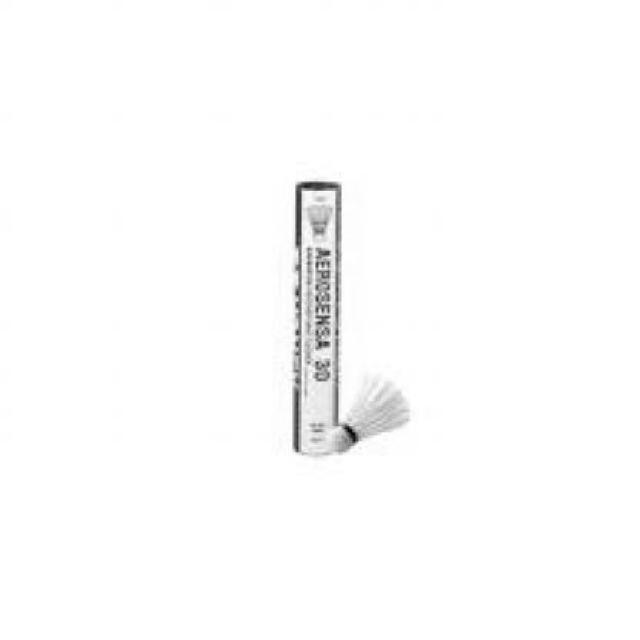Shuttlecock: (331, 374, 414, 455)
